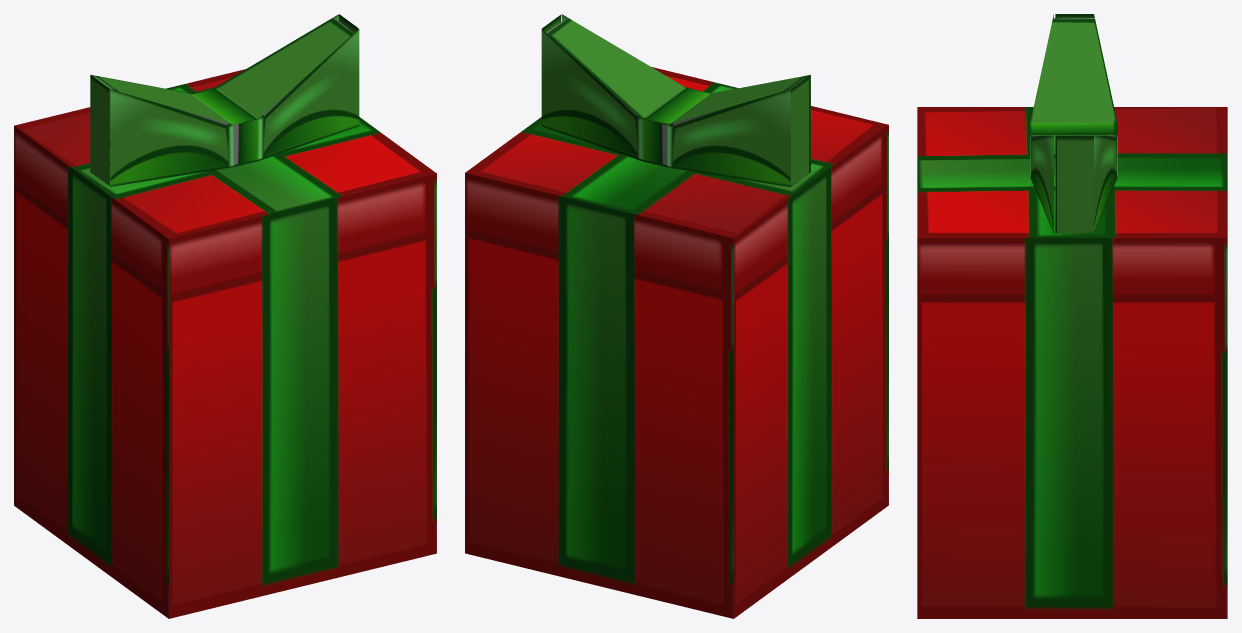
The model's file is present_Red.fbx.
3 renders of one model, left to right at view 1: azimuth 30°, elevation 25°; view 2: azimuth 150°, elevation 25°; view 3: azimuth 270°, elevation 25°, orthographic.
Visible parts, largest first — view 1: present_red; view 2: present_red; view 3: present_red.
Part boxes in pixels (<box>): present_red: <box>14,14,436,618</box>; present_red: <box>465,14,888,618</box>; present_red: <box>917,14,1227,618</box>.
Size of the model in its own units: 86 by 146 by 86.
